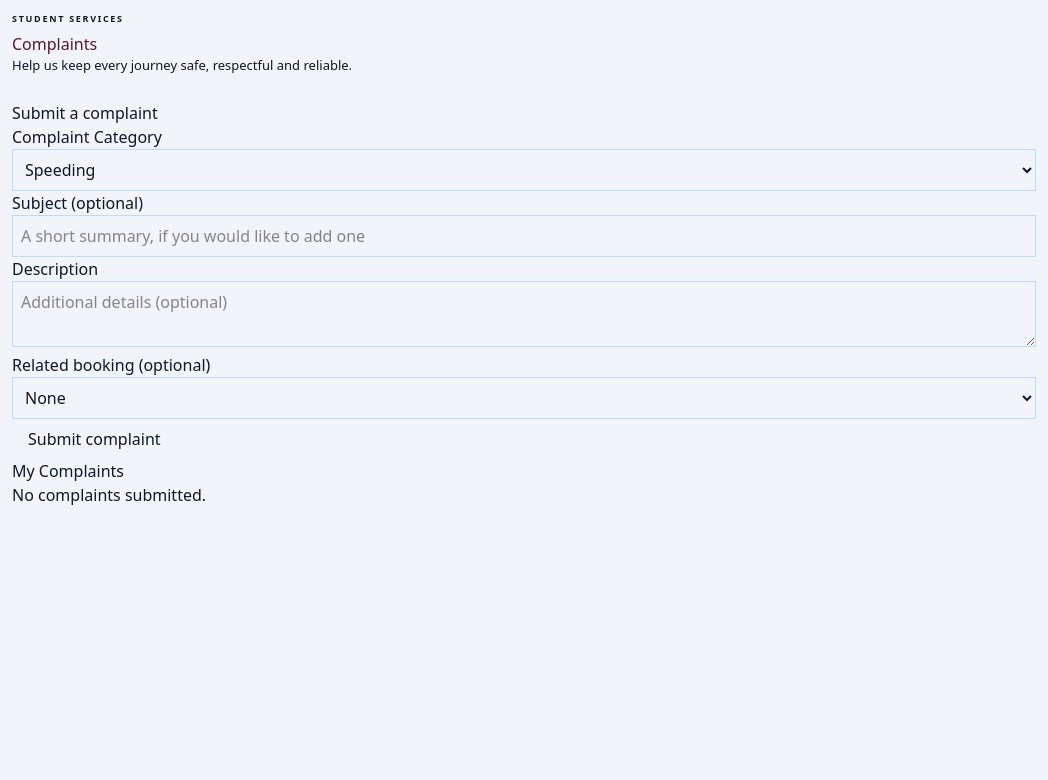
Member 2 student pages › submits complaint and refreshes My Complaints with read-only status
Expected: the text "No complaints submitted." is shown, 12,484 -> 206,506
Type "Late departure" into the field labelled "Subject". click: (524, 236)
box: 12,215 -> 1036,257
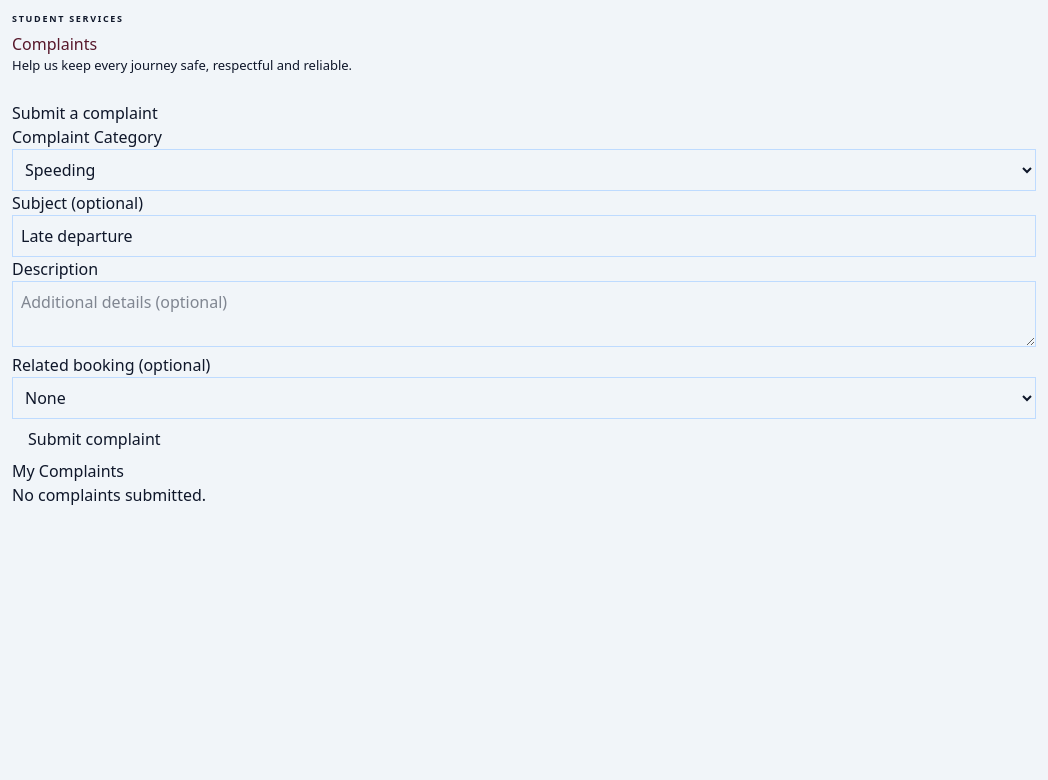
Type "Departed late" into the text box labelled "Description". click: (524, 314)
box: 12,281 -> 1036,347
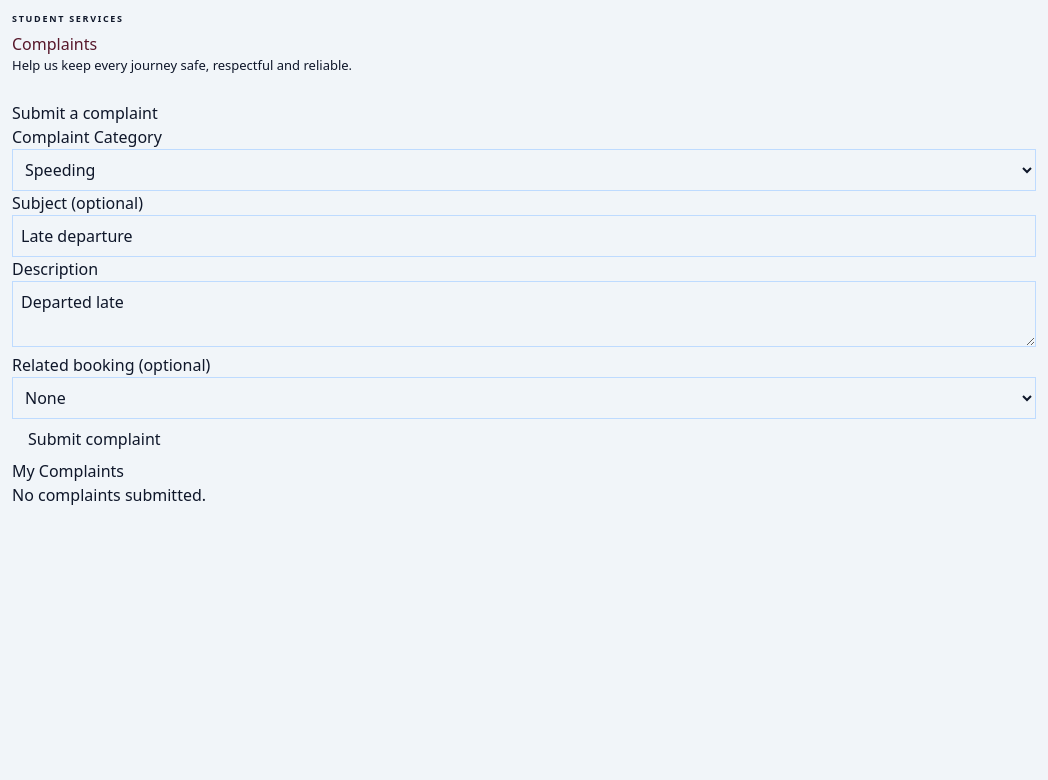
Select "Late bus" in the dropdown labelled "Category". click: (524, 170)
box: 12,149 -> 1036,191
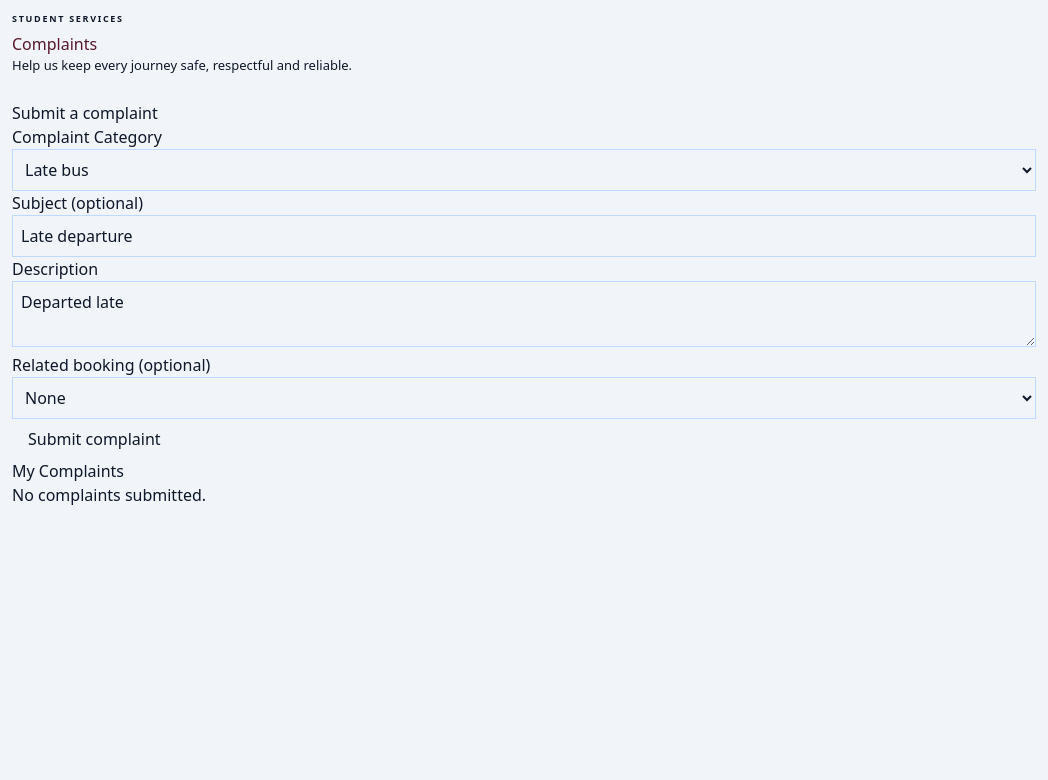
Click the button "Submit complaint". click: (94, 439)
box: 12,419 -> 177,459
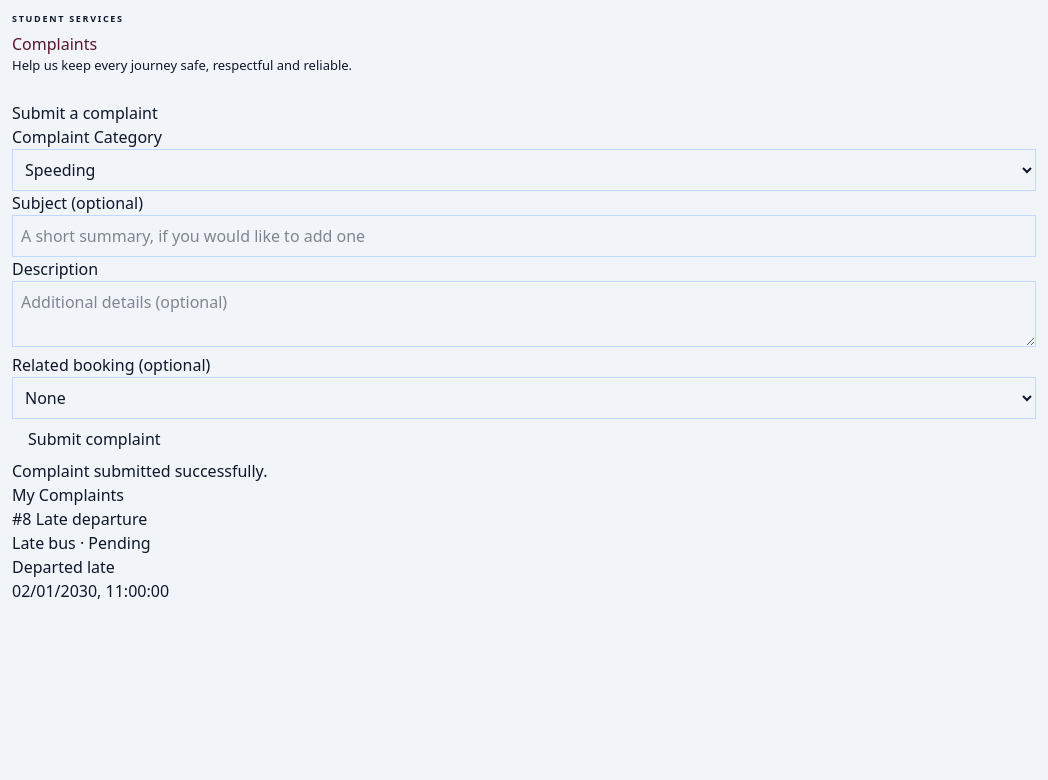
Result: the text "Complaint submitted successfully." is shown at 12,460 -> 267,482
Result: the link "#8 Late departure" is shown at 12,508 -> 147,530
Result: the text "Late bus · Pending" is shown at 12,532 -> 151,554
